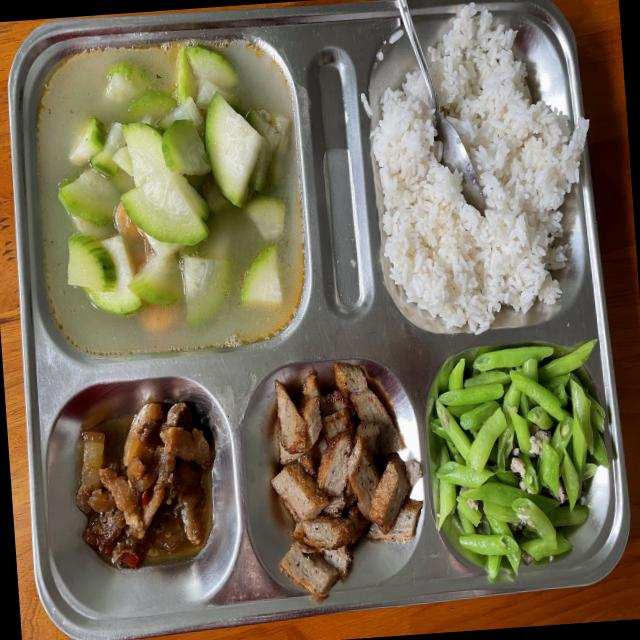canh bau: (35, 31, 306, 352)
com: (370, 7, 587, 333)
dau que: (427, 340, 615, 582)
kho tieu: (77, 403, 214, 567)
